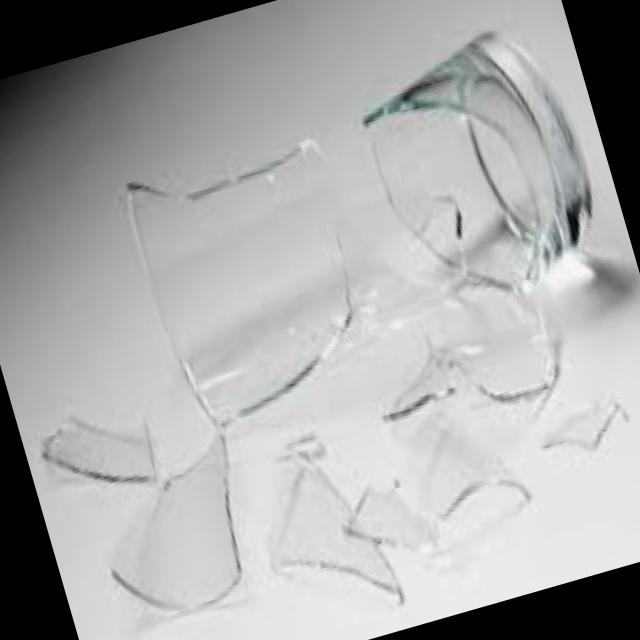PecahanKaca: (0, 7, 640, 640), (346, 10, 617, 324)
